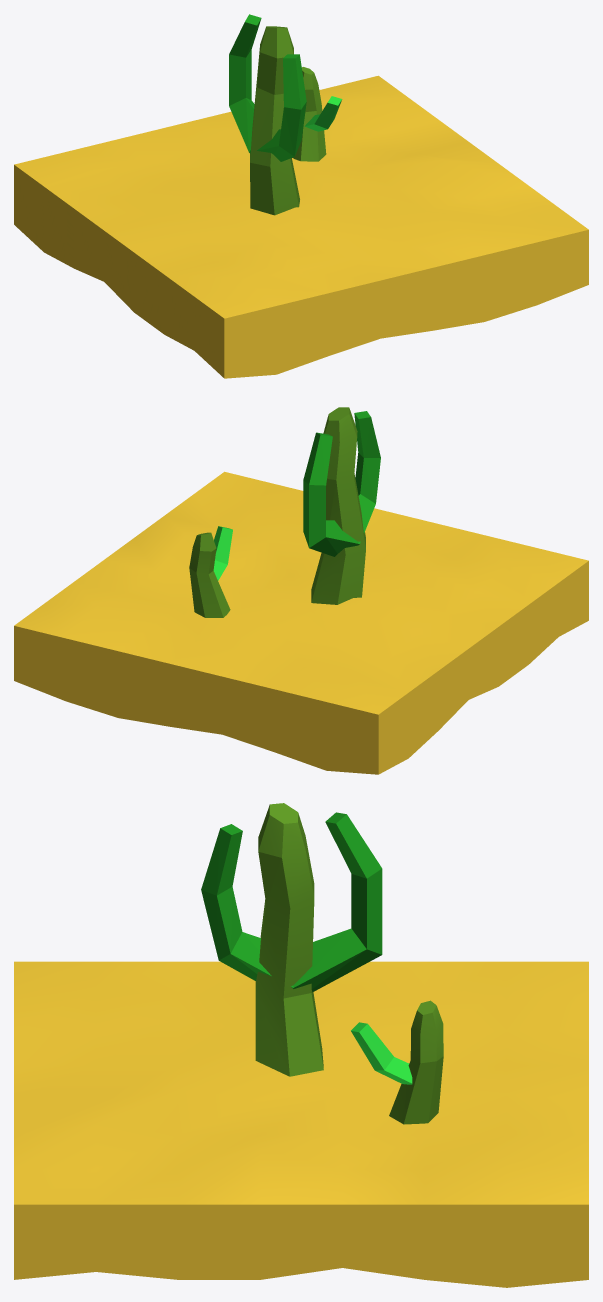
The model's file is sand2(2).fbx.
3 renders of one model, top to bottom at view 1: azimuth 30°, elevation 25°; view 2: azimuth 150°, elevation 25°; view 3: azimuth 270°, elevation 25°, orthographic. The views are drawn at different scales.
Visible parts, largest first — view 1: 立方体, cactus; view 2: 立方体, cactus; view 3: 立方体, cactus.
Part boxes in pixels (<box>): 立方体: <box>14,75,588,378</box>; cactus: <box>229,14,342,215</box>; 立方体: <box>14,471,588,774</box>; cactus: <box>189,407,380,617</box>; 立方体: <box>14,961,588,1287</box>; cactus: <box>201,803,443,1124</box>.
Bounding box in the file's own units: 103 × 70.47 × 103.
